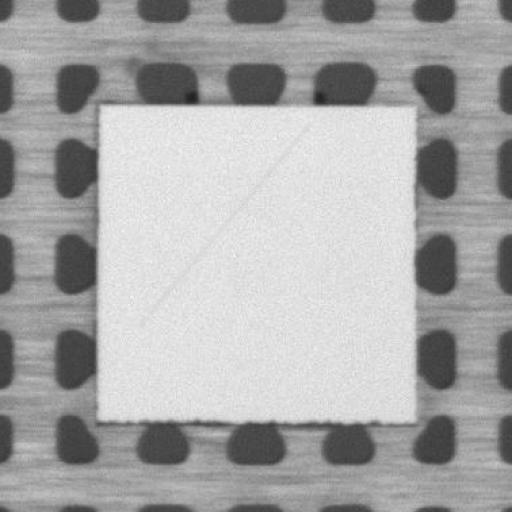DIE_CRACK: (138, 123, 308, 325)
